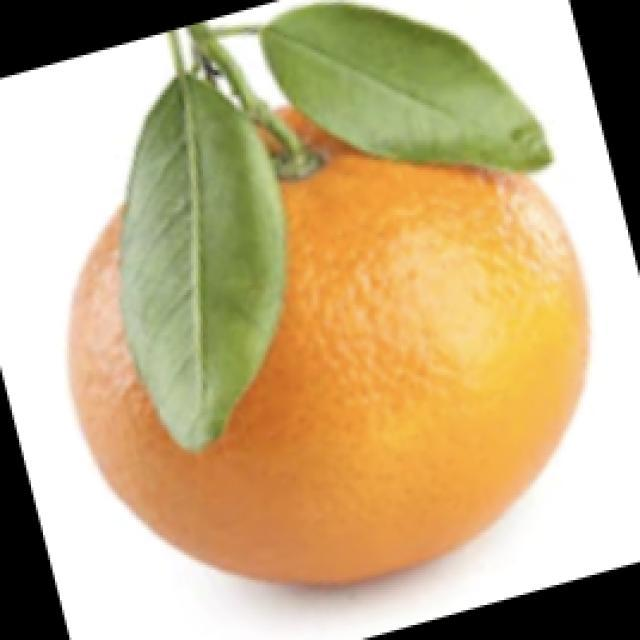Orange: (66, 102, 590, 587)
